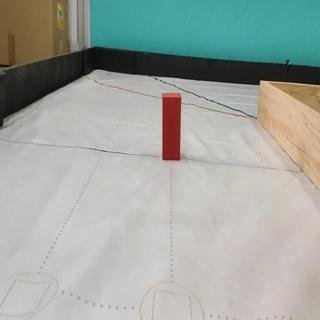redbox: (163, 93, 182, 161)
